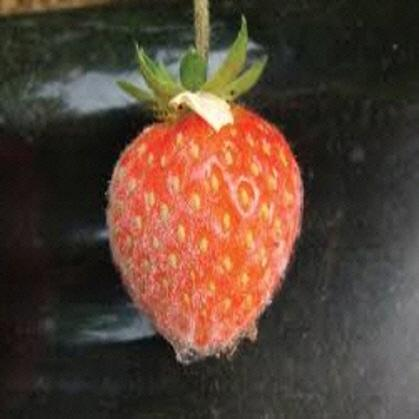Powdery Mildew Fruit: (106, 103, 305, 359)
